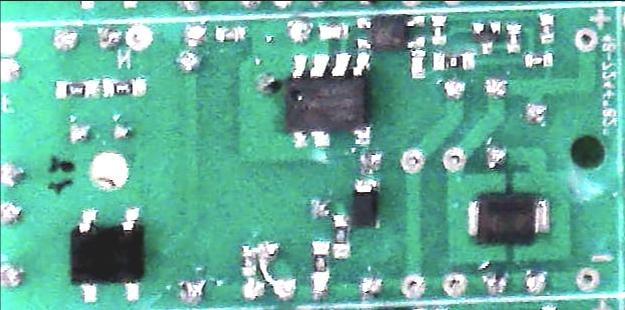chip-capacitor: (318, 22, 349, 40), (409, 49, 427, 79)
chip-resistor: (310, 240, 332, 285), (100, 77, 148, 97), (54, 78, 98, 99), (431, 50, 477, 70), (332, 214, 352, 259), (213, 25, 248, 42), (430, 14, 448, 45), (522, 51, 554, 67), (506, 23, 522, 54), (241, 246, 257, 276), (539, 14, 554, 43)
diode: (466, 191, 552, 245), (350, 177, 380, 227)
ic: (283, 51, 374, 148), (67, 206, 146, 303), (354, 13, 426, 50)
transistor: (472, 19, 503, 55)
